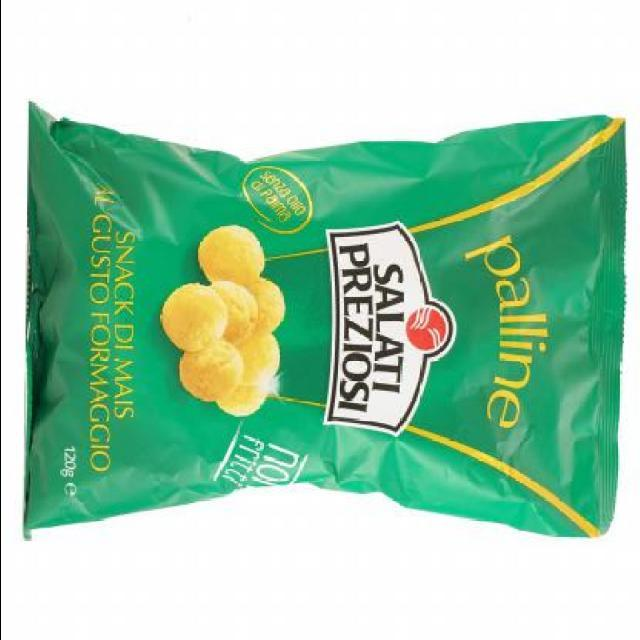Chips: (29, 113, 628, 539)
